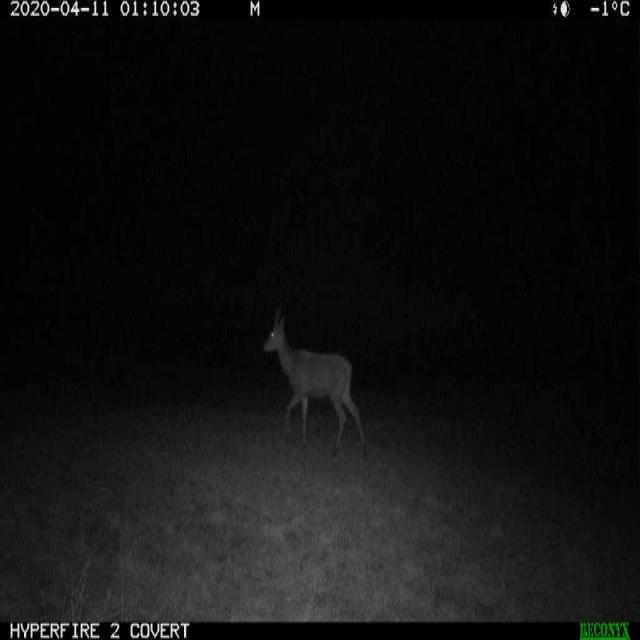deer: (248, 297, 374, 476)
